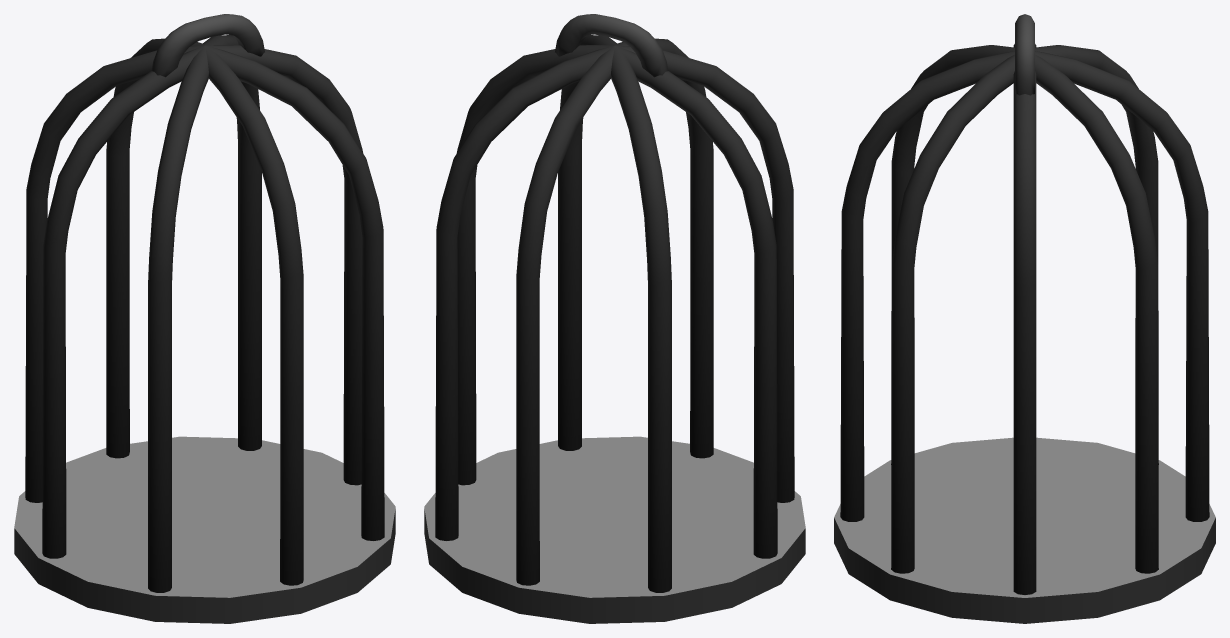
File: dragons_cage.fbx
The picture shows the model from 3 angles, left to right: view 1: azimuth 30°, elevation 25°; view 2: azimuth 150°, elevation 25°; view 3: azimuth 270°, elevation 25°; orthographic projection.
Visible parts, largest first — view 1: dr_cage; view 2: dr_cage; view 3: dr_cage.
Part boxes in pixels (<box>): dr_cage: <box>14,14,395,623</box>; dr_cage: <box>424,14,805,623</box>; dr_cage: <box>834,14,1215,623</box>.
Bounding box in the file's own units: 1.65 × 2.48 × 1.65.
